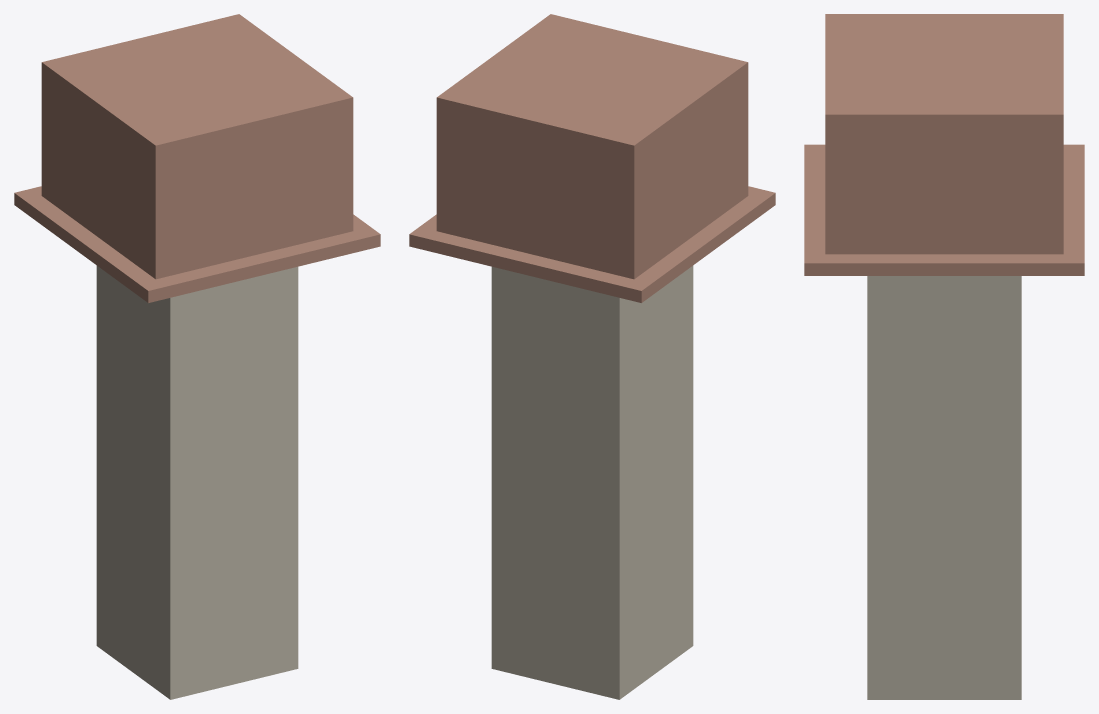
The model's file is iz3_historic_tower_01.glb.
3 views of the same model, side by side, from view 1: azimuth 30°, elevation 25°; view 2: azimuth 150°, elevation 25°; view 3: azimuth 270°, elevation 25° (orthographic). The views are drawn at different scales.
Parts seen in each view (by area): view 1: shaft, crown, balcony; view 2: shaft, crown, balcony; view 3: shaft, crown, balcony.
Boxes of the visible parts, x1,y1,x2,y2 form: shaft: (96, 265, 298, 699); crown: (41, 14, 353, 279); balcony: (14, 186, 380, 302); shaft: (491, 265, 693, 699); crown: (436, 14, 748, 279); balcony: (409, 186, 775, 302); shaft: (867, 276, 1021, 699); crown: (825, 14, 1063, 254); balcony: (804, 144, 1084, 275).
Bounding box in the file's own units: 3.6 × 8.55 × 3.6.
